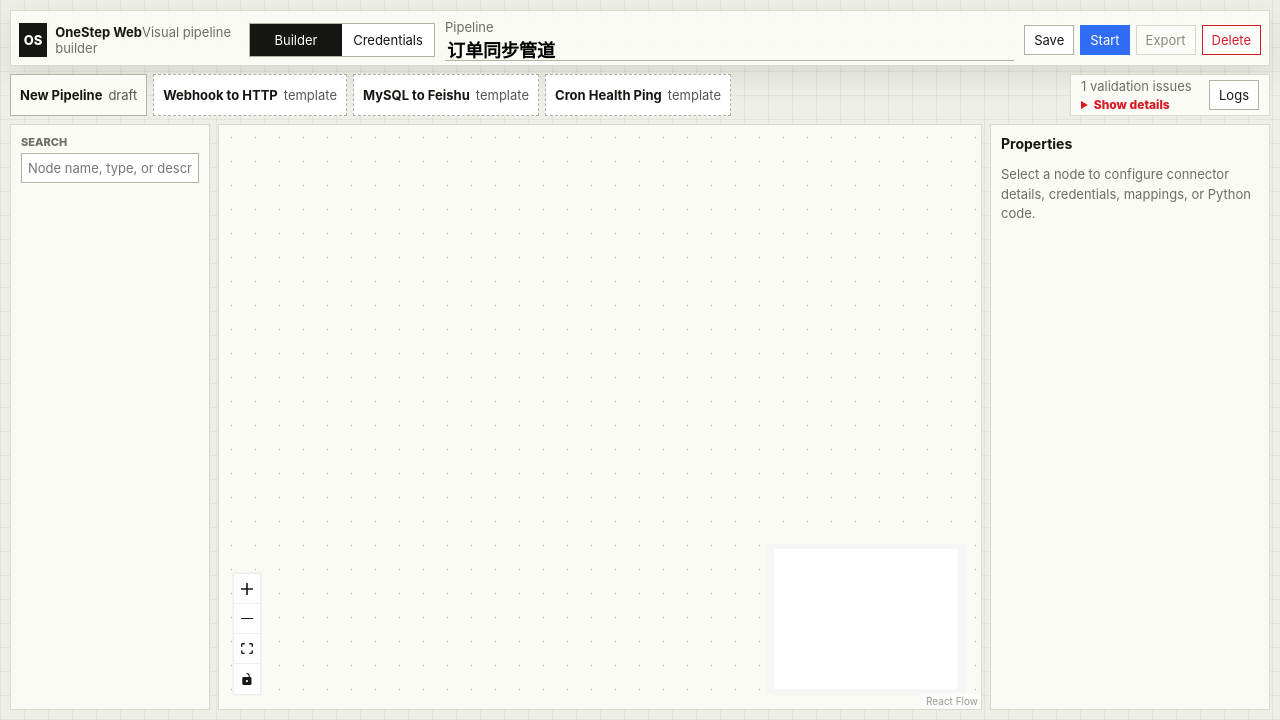
App › opens credentials on a dedicated page
Click the button "Credentials".
click(388, 40)  # box [342,24,434,56]
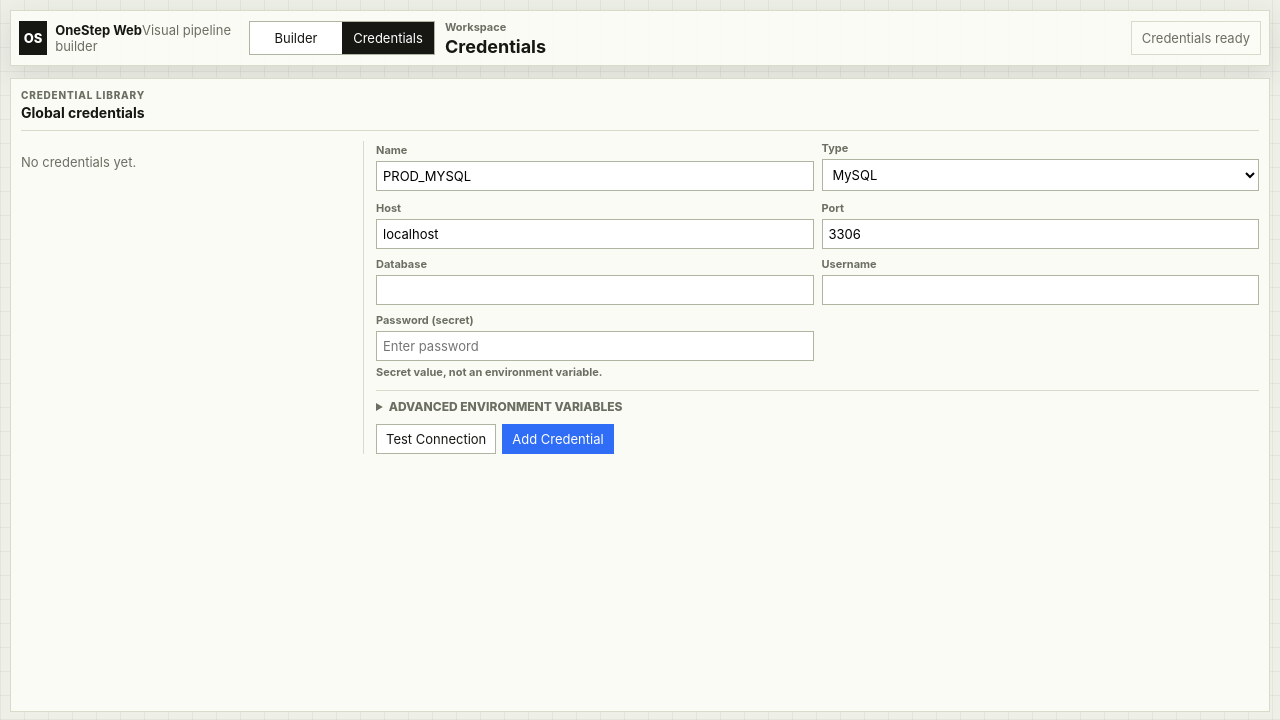
Check: the field labelled "Database" is shown, box [376,275,814,305]
Check: the heading "Global credentials" is shown, box [21,104,145,121]
Check: the field labelled "Host" is shown, box [376,219,814,249]
